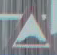Speed Breaker ahead: (5, 4, 56, 52)
